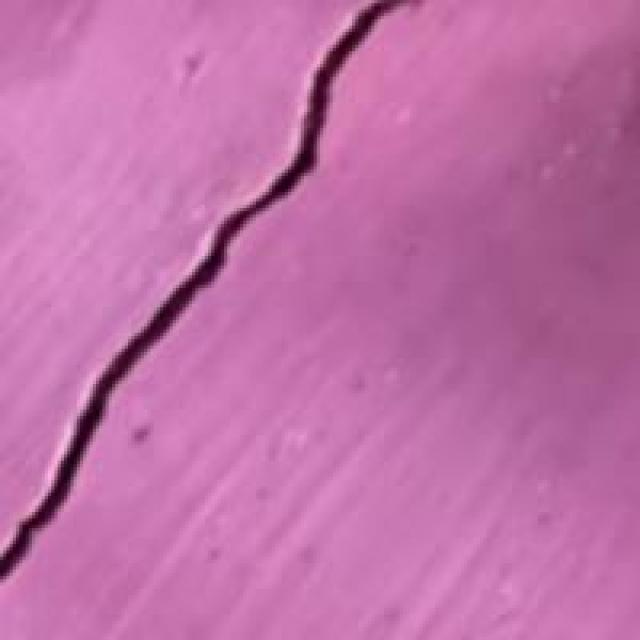Crack: (0, 9, 422, 588)
